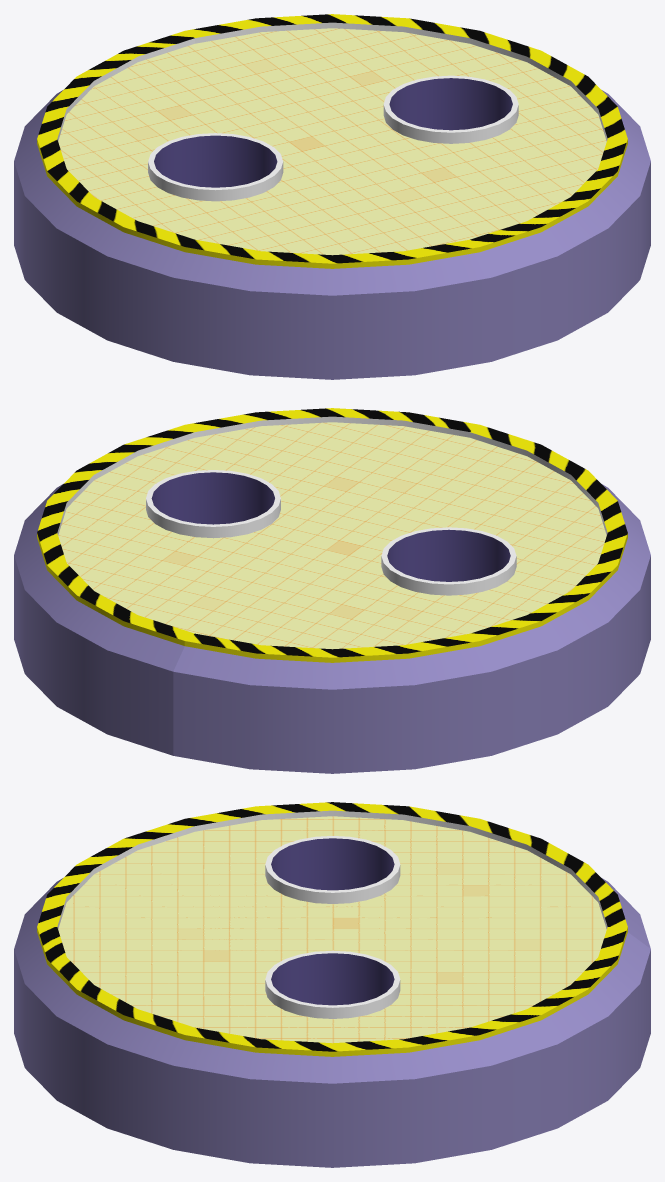
The picture shows the model from 3 angles, top to bottom: view 1: azimuth 30°, elevation 25°; view 2: azimuth 150°, elevation 25°; view 3: azimuth 270°, elevation 25°; orthographic projection.
Visible parts, largest first — view 1: floor_circle_2_hole.003; view 2: floor_circle_2_hole.003; view 3: floor_circle_2_hole.003.
Boxes of the visible parts, x1=… form: floor_circle_2_hole.003: x1=14, y1=14, x2=650, y2=379; floor_circle_2_hole.003: x1=14, y1=408, x2=650, y2=773; floor_circle_2_hole.003: x1=14, y1=802, x2=650, y2=1167.
Size of the model in its own units: 2550 by 495 by 2550.
1 material, 1 textured.
